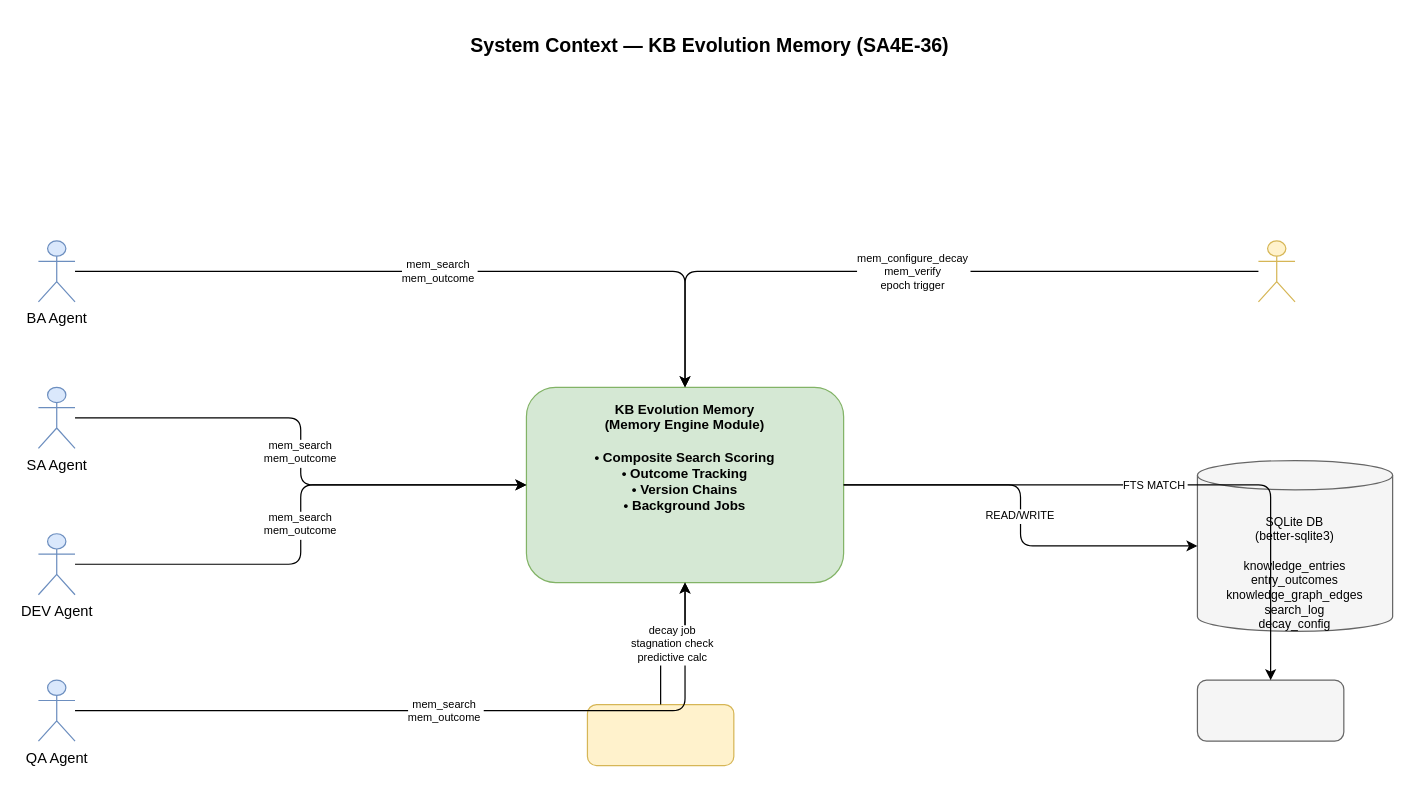
The diagram is 1414 pixels wide and 787 high, and some of its shapes have lost their labels. The centre of each missing label's shape, as x and y in pixels:
"Admin / DevOps" goes at point 1276,271.
"Background Scheduler" goes at point 660,734.
"FTS5 Index (knowledge_fts)" goes at point 1270,710.
